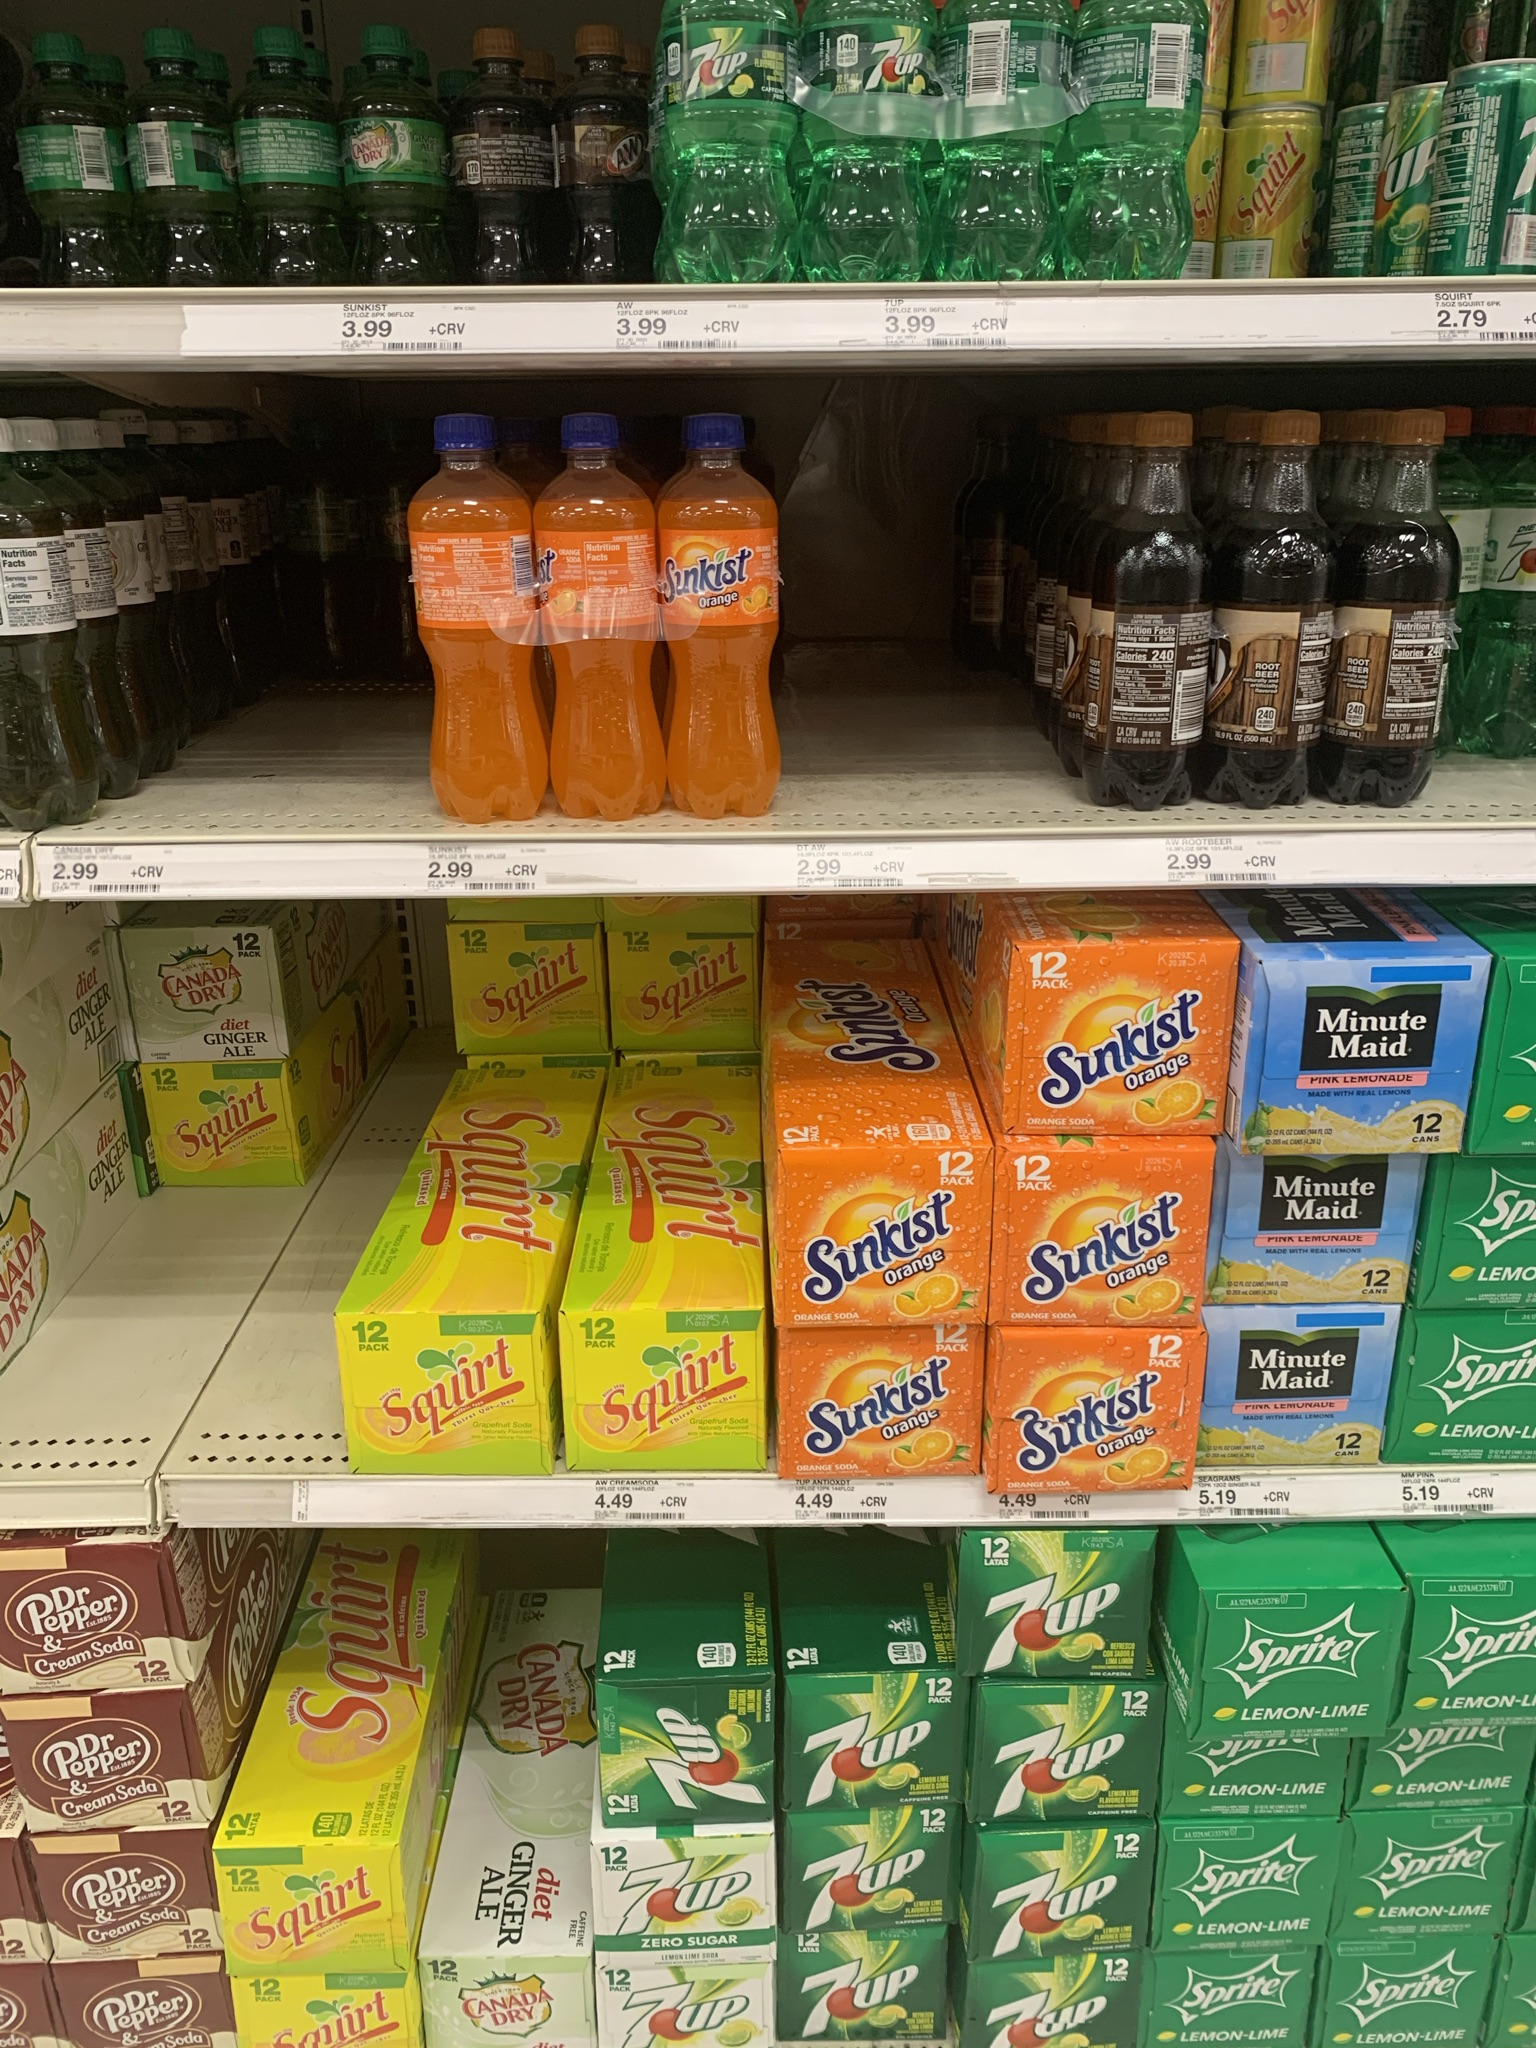box: (1018, 939, 1228, 1140), (784, 1155, 994, 1332), (336, 1309, 544, 1484), (557, 1319, 763, 1476), (994, 1332, 1192, 1493), (1265, 971, 1455, 1138), (6, 1543, 174, 1709), (971, 1526, 1149, 1680), (37, 1825, 215, 1966), (1207, 1598, 1384, 1738), (983, 1687, 1152, 1830), (605, 1684, 773, 1825), (10, 1706, 198, 1832), (1152, 1822, 1341, 1946), (132, 918, 278, 1077), (792, 1687, 954, 1825), (223, 1850, 399, 1974), (1354, 1819, 1512, 1951), (139, 1068, 303, 1192), (984, 1838, 1155, 1958), (1234, 1185, 1404, 1305), (1149, 1940, 1333, 2048), (1218, 1338, 1375, 1461), (1328, 1937, 1494, 2048), (797, 1827, 950, 1932), (465, 942, 591, 1047), (600, 1858, 766, 1934), (428, 1959, 573, 2045), (616, 940, 739, 1034), (607, 1979, 758, 2040)
can: (1447, 85, 1533, 260), (1234, 131, 1312, 276)
